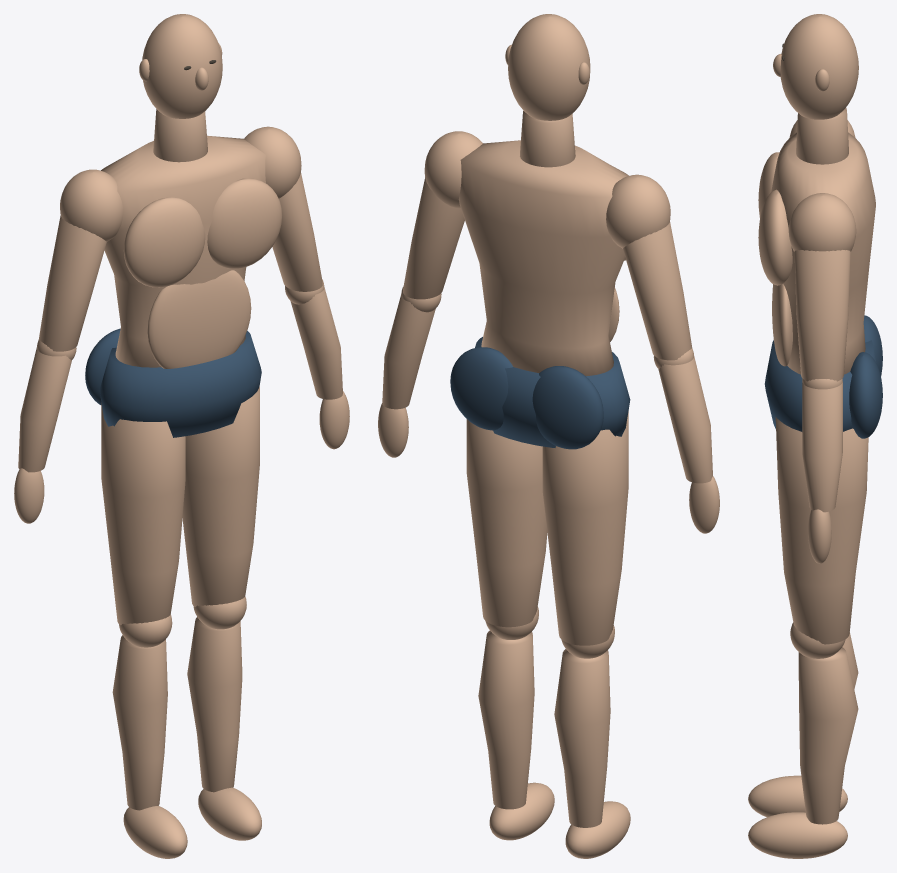
File: body.glb
The picture shows the model from 3 angles, left to right: view 1: azimuth 30°, elevation 25°; view 2: azimuth 150°, elevation 25°; view 3: azimuth 270°, elevation 25°; orthographic projection.
Parts seen in each view (by area): view 1: thigh_right, thigh_left, torso, briefs, abdomen, calf_left, calf_right, head, chest_right, upper_arm_right, chest_left, forearm_right (+12 smaller); view 2: torso, thigh_right, thigh_left, calf_left, calf_right, head, upper_arm_right, glute_right, upper_arm_left, briefs, forearm_right, glute_left (+8 smaller); view 3: thigh_left, torso, calf_left, upper_arm_left, head, forearm_left, foot_left, shoulder_left, briefs, chest_left, neck, glute_left (+8 smaller).
Part boxes in pixels (x1,y1,x2,y2): thigh_right: [101, 403, 185, 625]; thigh_left: [182, 386, 259, 606]; torso: [101, 135, 265, 367]; briefs: [99, 330, 261, 437]; abdomen: [147, 270, 251, 368]; calf_left: [187, 617, 242, 792]; calf_right: [112, 635, 167, 810]; head: [142, 14, 222, 118]; chest_right: [123, 197, 205, 287]; upper_arm_right: [38, 216, 106, 351]; chest_left: [207, 178, 282, 268]; forearm_right: [18, 347, 71, 472]; torso: [458, 140, 628, 376]; thigh_right: [542, 411, 628, 645]; thigh_left: [466, 419, 547, 627]; calf_left: [478, 630, 534, 809]; calf_right: [554, 649, 610, 827]; head: [508, 14, 590, 120]; upper_arm_right: [623, 222, 692, 360]; glute_right: [532, 366, 603, 449]; upper_arm_left: [403, 177, 464, 299]; briefs: [475, 337, 630, 447]; forearm_right: [658, 356, 712, 483]; glute_left: [450, 347, 512, 430]; thigh_left: [775, 417, 868, 644]; torso: [771, 132, 875, 374]; calf_left: [798, 647, 858, 824]; upper_arm_left: [794, 250, 850, 381]; head: [780, 14, 858, 119]; forearm_left: [802, 382, 842, 512]; foot_left: [748, 812, 847, 858]; shoulder_left: [788, 193, 856, 251]; briefs: [764, 340, 876, 431]; chest_left: [758, 189, 792, 285]; neck: [796, 108, 848, 164]; glute_left: [849, 352, 882, 438].
Bounding box in the file's own units: 0.742 × 1.74 × 0.259.
